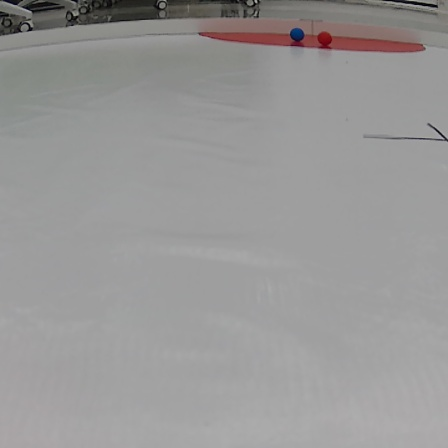blue: (287, 27, 303, 41)
red: (317, 32, 335, 48)
red_base: (193, 31, 431, 60)
